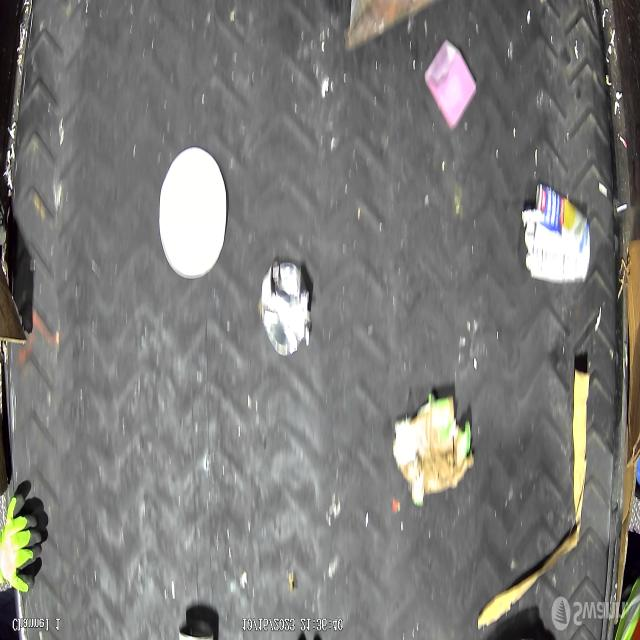can: (260, 260, 312, 356)
